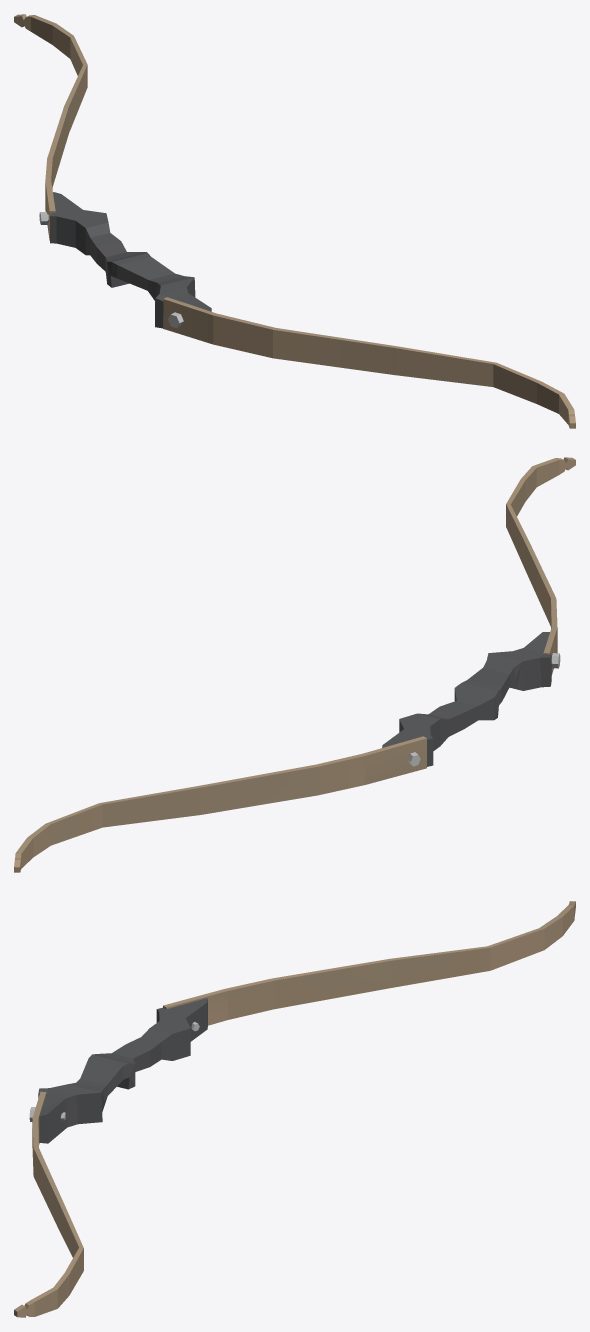
File: bow.glb
The picture shows the model from 3 angles, top to bottom: view 1: azimuth 30°, elevation 25°; view 2: azimuth 150°, elevation 25°; view 3: azimuth 330°, elevation 25°; orthographic projection.
Parts seen in each view (by area): view 1: Bow; view 2: Bow; view 3: Bow.
Part boxes in pixels (left/top/right/bottom): Bow: left=14, top=14, right=575, bottom=428; Bow: left=14, top=457, right=575, bottom=872; Bow: left=14, top=901, right=575, bottom=1317.
Size of the model in its own units: 0.5602 by 0.0763 by 2.53.
Materials: 1 (1 with a texture image).
